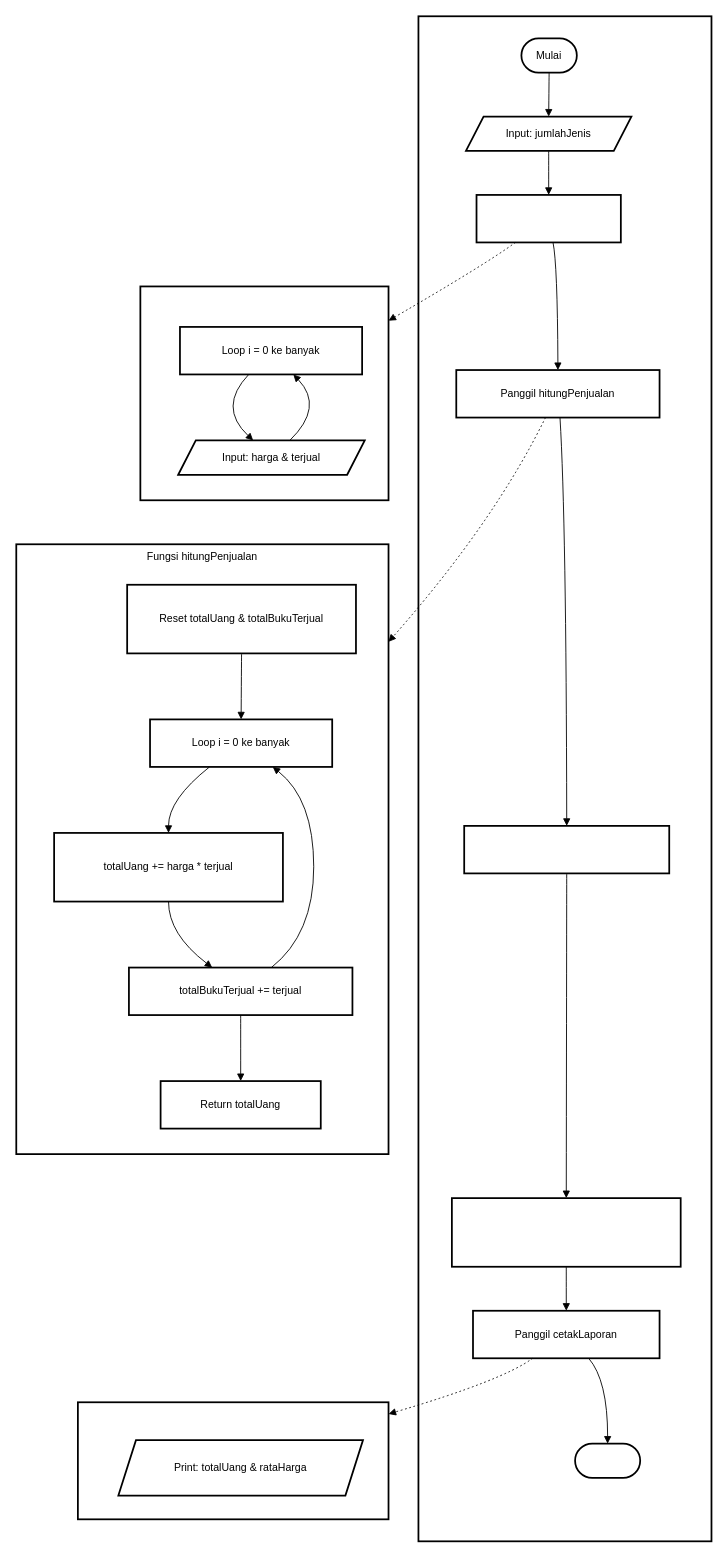
Some shapes in this 727 by 1557 pixel diagram are drawn without their labels. Here are the shapes that lost their labels. From the top down, the box of each, then its label:
(475, 194, 621, 243): Panggil isiData
(139, 285, 389, 501): Prosedur isiData
(417, 15, 712, 1542): Fungsi Main
(463, 825, 670, 874): Loop: Hitung totalHarga
(451, 1197, 681, 1267): rataHarga = totalHarga / jumlahJenis
(77, 1401, 389, 1520): Prosedur cetakLaporan
(574, 1442, 641, 1478): Selesai
